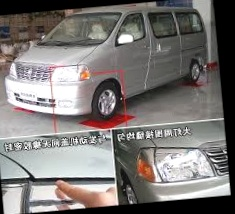van: (0, 1, 216, 125)
